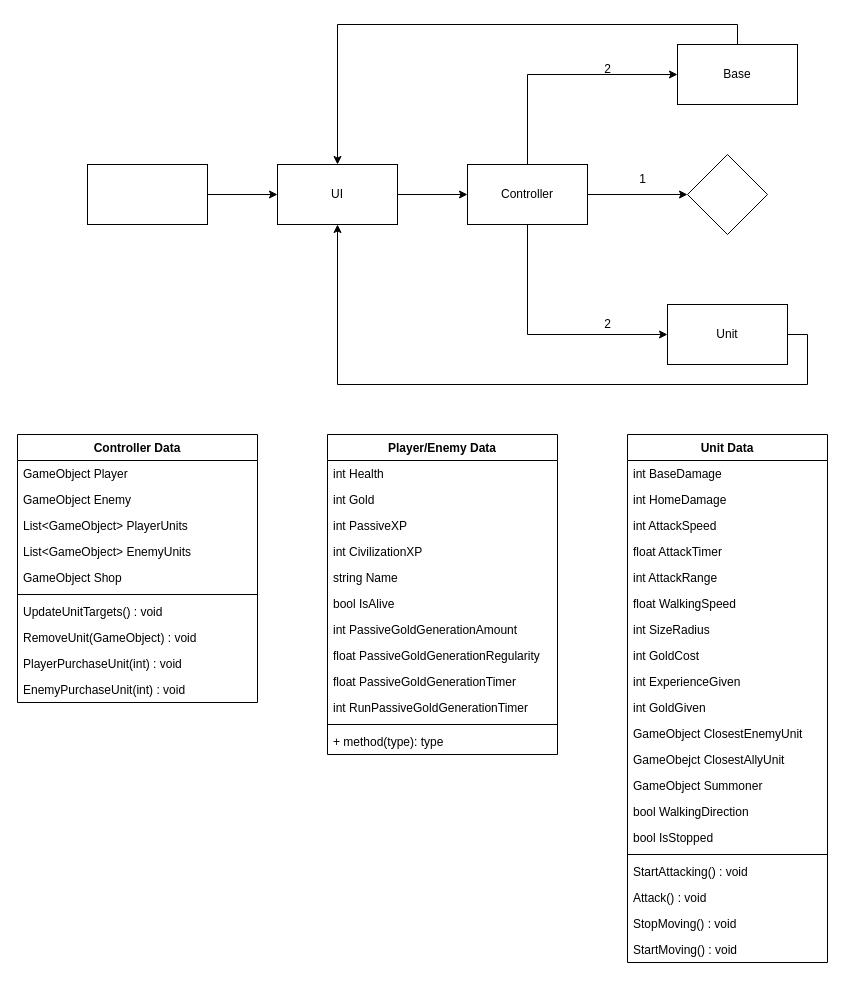
The diagram is 845 pixels wide and 983 high, and some of its shapes have lost their labels. Here are the shapes that lost their labels. From the top down, the centre of each, then its label:
At (147,194): "Spiller".
At (727,194): "Data".
